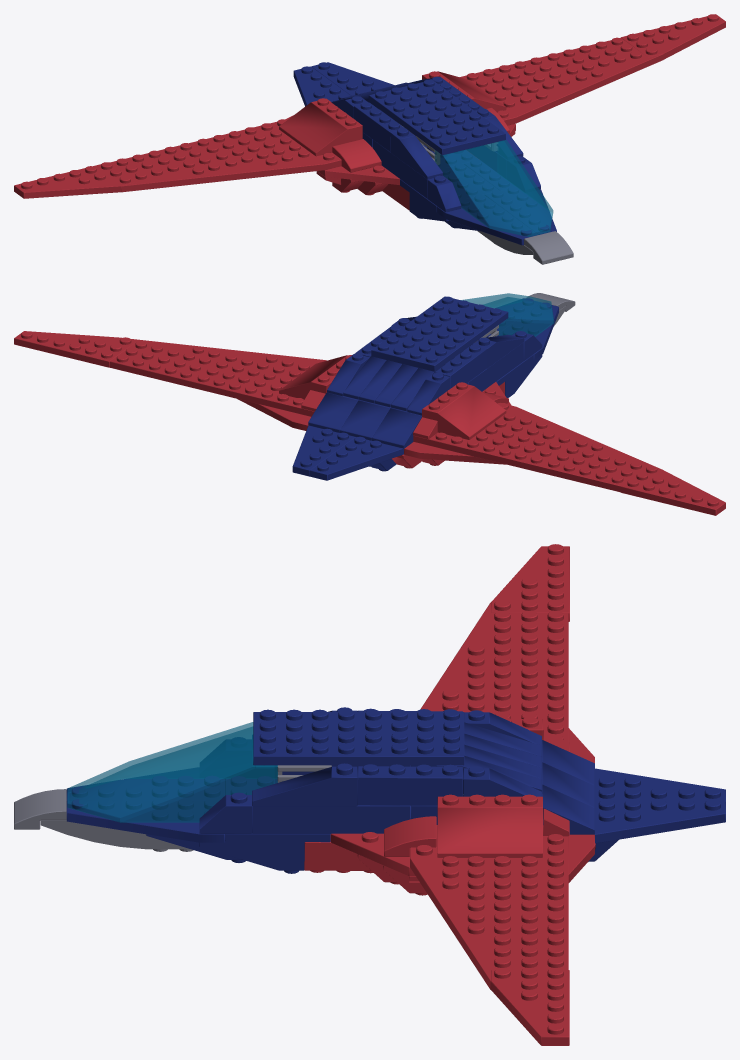
File: lego spaceship.fbx
3 views of the same model, one above another, from view 1: azimuth 30°, elevation 25°; view 2: azimuth 150°, elevation 25°; view 3: azimuth 270°, elevation 25° (orthographic). The views are drawn at different scales.
Visible parts, largest first — view 1: polySurface211, polySurface220, L2x8Cockpit2, L4x8F2583, L4x3Slope4, polySurface221, polySurface207, polySurface222, polySurface208, L1x3Slope2, L4x4F1, polySurface215 (+16 smaller); view 2: polySurface211, polySurface220, L4x8F2583, L4x3Slope4, polySurface221, polySurface222, L2x8Cockpit2, polySurface215, polySurface216, L4x3Slope3, polySurface207, L2x3slope2 (+19 smaller); view 3: polySurface220, polySurface211, L2x8Cockpit2, L4x8F2583, L4x3Slope3, polySurface208, polySurface222, polySurface216, L2x17, LegoTri2755, polySurface221, L1x3Slope3 (+20 smaller).
Part boxes in pixels (x1,y1,x2,y2): polySurface211: (103, 119, 341, 192); polySurface220: (460, 36, 663, 125); L2x8Cockpit2: (434, 140, 553, 236); L4x8F2583: (368, 79, 505, 155); L4x3Slope4: (279, 98, 362, 156); polySurface221: (14, 162, 135, 198); polySurface207: (436, 195, 538, 245); polySurface222: (621, 14, 725, 59); polySurface208: (485, 187, 556, 234); L1x3Slope2: (390, 128, 442, 179); L4x4F1: (400, 164, 499, 211); polySurface215: (293, 66, 350, 106); polySurface211: (413, 402, 662, 492); polySurface220: (101, 337, 326, 416); L4x8F2583: (371, 296, 508, 371); L4x3Slope4: (422, 382, 506, 439); polySurface221: (620, 468, 725, 515); polySurface222: (14, 331, 136, 367); L2x8Cockpit2: (461, 293, 554, 336); polySurface215: (310, 436, 412, 480); polySurface216: (292, 425, 355, 476); L4x3Slope3: (279, 355, 351, 399); polySurface207: (497, 302, 558, 360); L2x3slope2: (372, 407, 421, 448); polySurface220: (410, 825, 568, 989); polySurface211: (420, 600, 568, 741); L2x8Cockpit2: (67, 722, 277, 822); L4x8F2583: (253, 709, 464, 765); L4x3Slope3: (437, 794, 542, 857); polySurface208: (66, 799, 224, 842); polySurface222: (490, 968, 569, 1045); polySurface216: (594, 799, 725, 843); L2x17: (252, 805, 410, 833); LegoTri2755: (357, 764, 463, 805); polySurface221: (491, 544, 569, 621); L1x3Slope3: (252, 763, 357, 806).
Size of the model in its own units: 1626 by 175 by 997.
